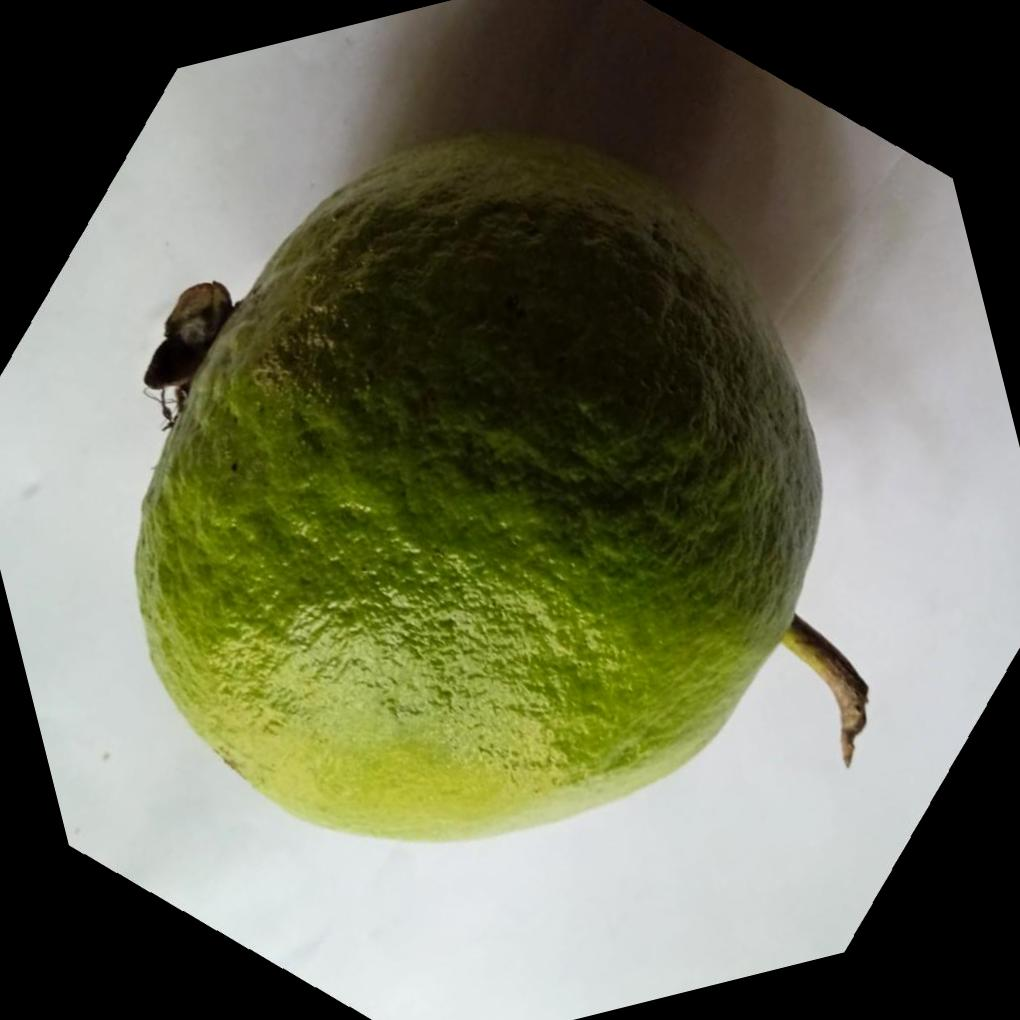FreshGuava: (131, 122, 867, 842)
